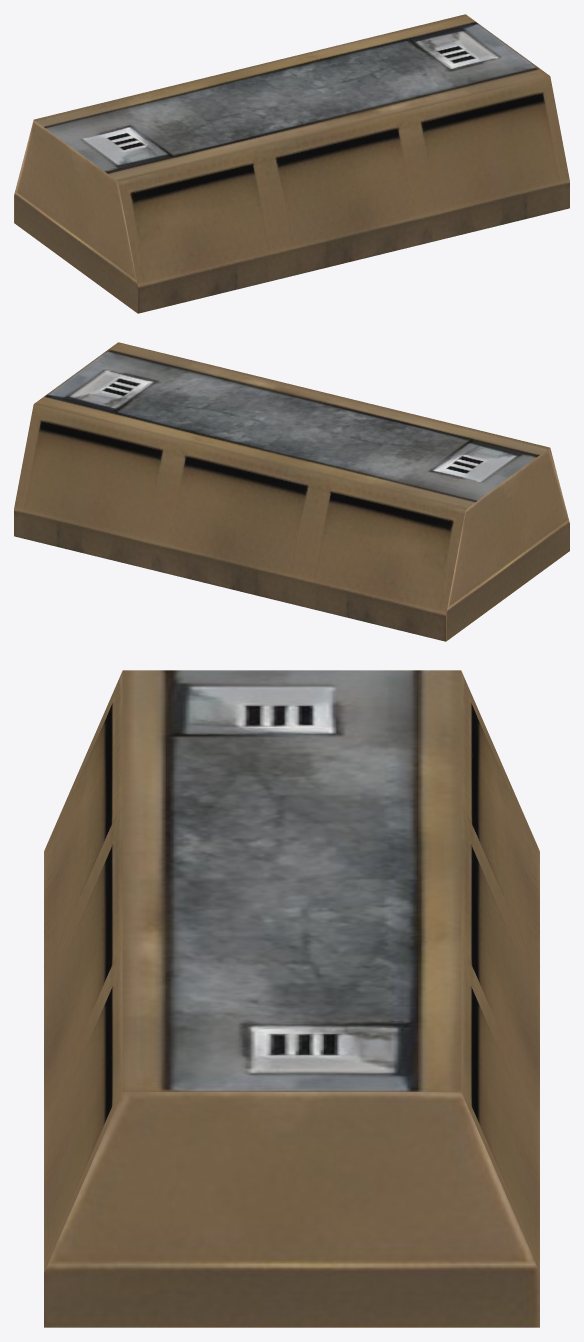
The model's file is hpg_walkway_hdtex.glb.
The picture shows the model from 3 angles, top to bottom: view 1: azimuth 30°, elevation 25°; view 2: azimuth 150°, elevation 25°; view 3: azimuth 270°, elevation 25°; orthographic projection. The views are drawn at different scales.
Parts seen in each view (by area): view 1: HPG_Walkway; view 2: HPG_Walkway; view 3: HPG_Walkway.
Part boxes in pixels (x1,y1,x2,y2): HPG_Walkway: (14,14,569,313); HPG_Walkway: (14,342,569,641); HPG_Walkway: (44,670,539,1327).
Size of the model in its own units: 25.59 by 6.67 by 12.71.
1 material, 1 textured.
